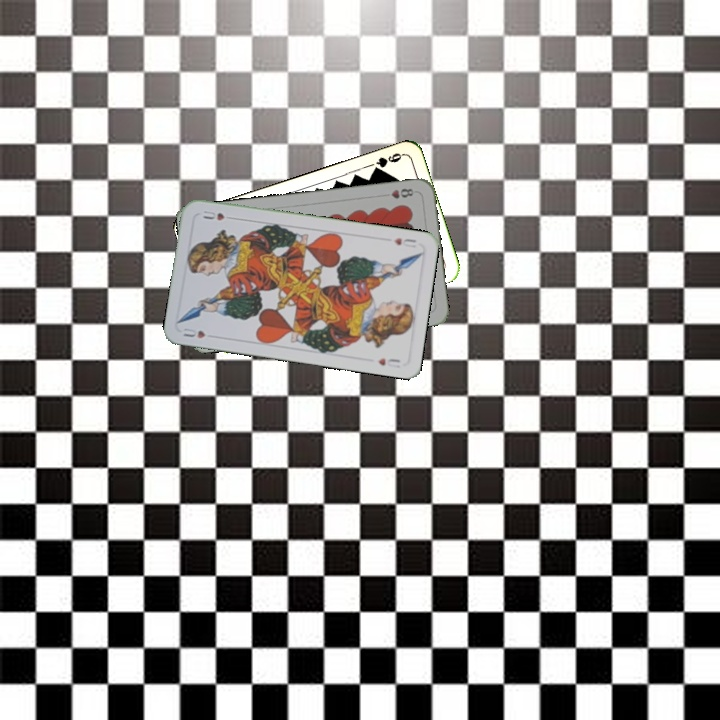G9: (369, 149, 406, 175)
H8: (378, 184, 419, 201)
HU: (179, 324, 208, 341), (389, 234, 418, 250)
